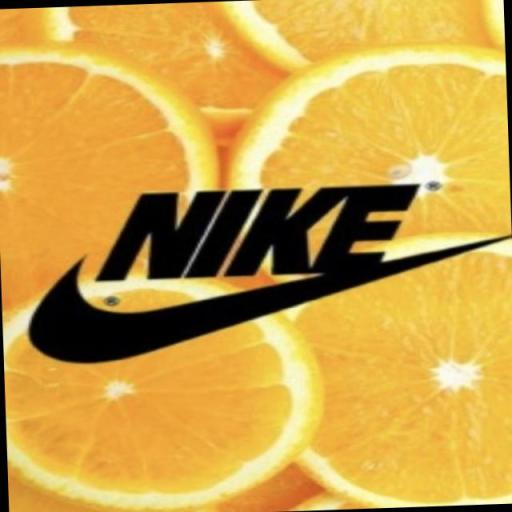Nike: (23, 226, 512, 368), (94, 177, 422, 288)
